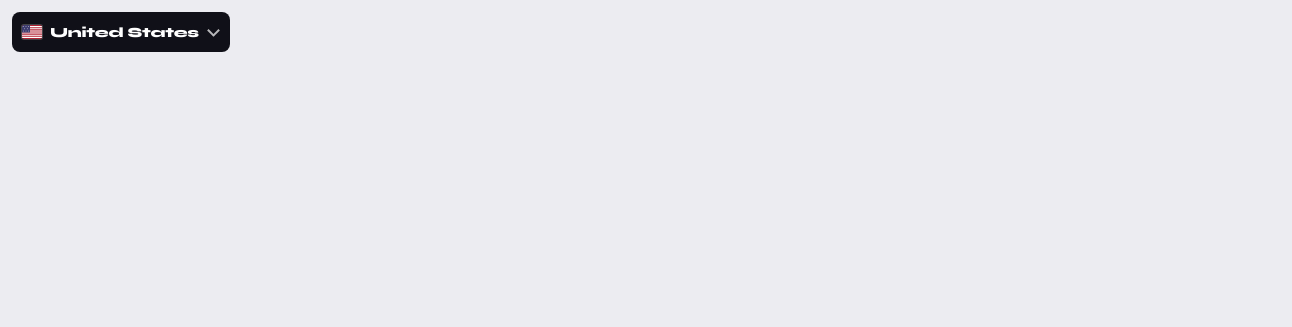
Test: CountryPicker › names the countries in the UI language
Click the button with aria-label "Release country" at (121,32), box x1=12 y1=12 x2=230 y2=52
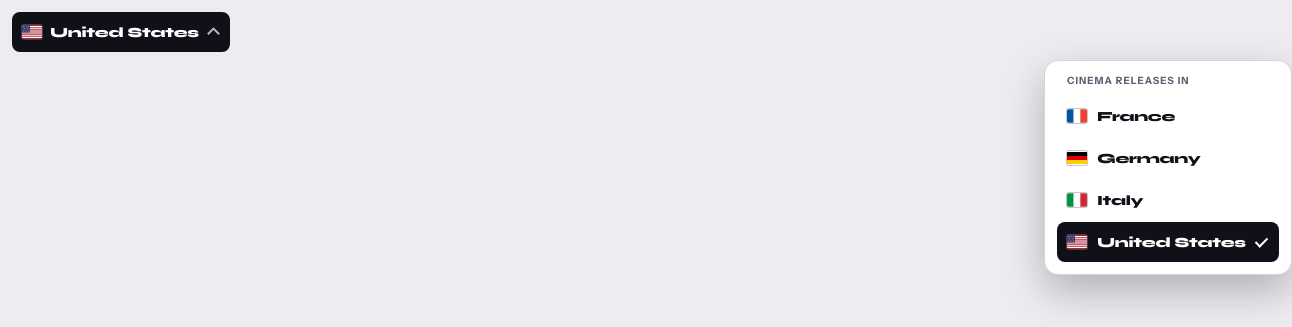
Result: the link "United States" is shown at x1=1057 y1=222 x2=1279 y2=262
Result: the link "France" is shown at x1=1067 y1=108 x2=1175 y2=124
